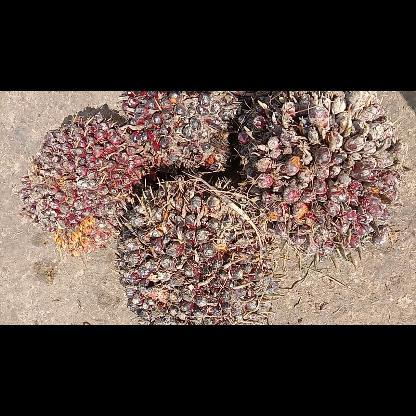Kurang masak: (236, 90, 414, 266), (116, 178, 274, 324), (18, 112, 162, 258), (117, 90, 241, 176)
